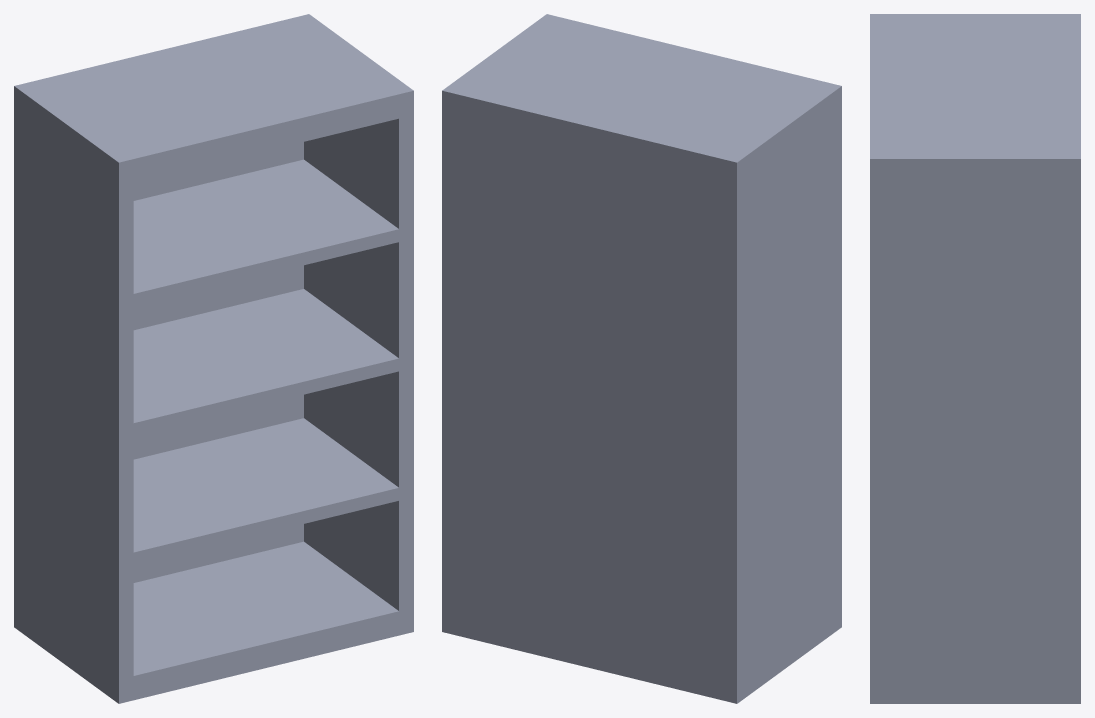
File: wall-shelf-tall.fbx
The picture shows the model from 3 angles, left to right: view 1: azimuth 30°, elevation 25°; view 2: azimuth 150°, elevation 25°; view 3: azimuth 270°, elevation 25°; orthographic projection.
Visible parts, largest first — view 1: above_counter_cabinet_tall; view 2: above_counter_cabinet_tall; view 3: above_counter_cabinet_tall.
Part boxes in pixels (x1=…): above_counter_cabinet_tall: x1=14, y1=14, x2=413, y2=703; above_counter_cabinet_tall: x1=442, y1=14, x2=841, y2=703; above_counter_cabinet_tall: x1=870, y1=14, x2=1080, y2=703.
Size of the model in its own units: 100 by 175 by 61.5.
